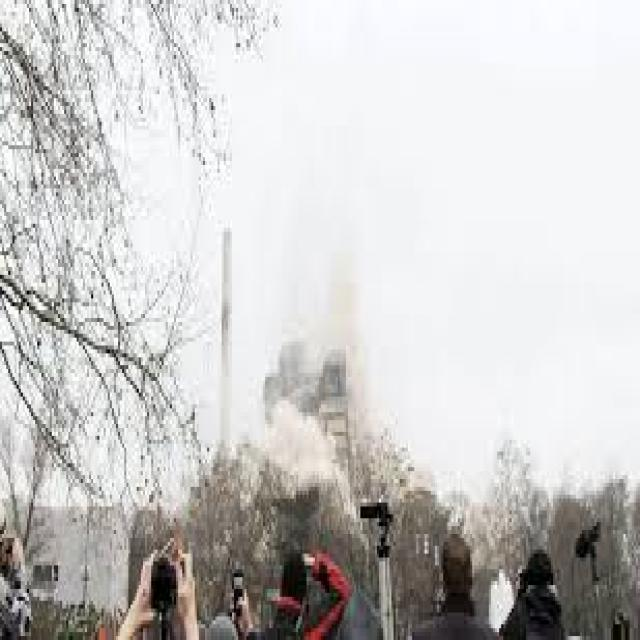Smoke: (268, 398, 336, 494)
